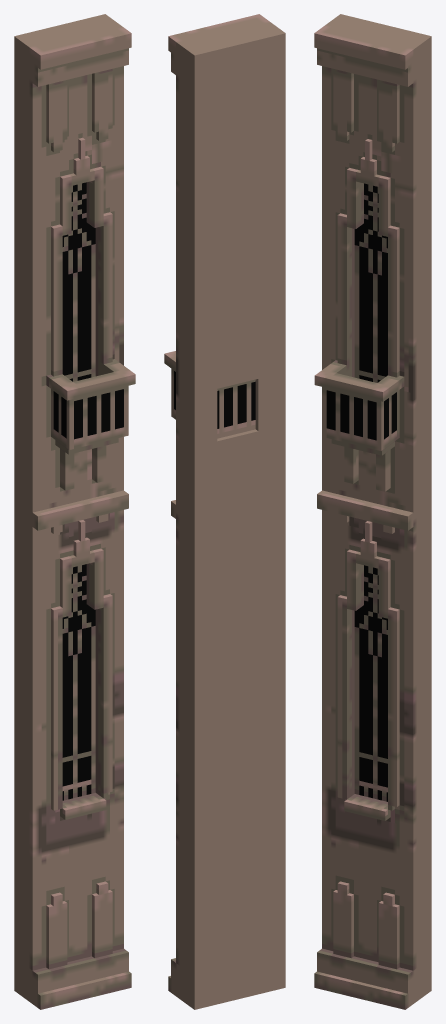
Rendered from Wall_Small_Windows.fbx.
3 renders of one model, left to right at view 1: azimuth 30°, elevation 25°; view 2: azimuth 210°, elevation 25°; view 3: azimuth 330°, elevation 25°, orthographic.
Visible parts, largest first — view 1: Wall_Small_Windows; view 2: Wall_Small_Windows; view 3: Wall_Small_Windows.
Part boxes in pixels (<box>): Wall_Small_Windows: <box>14,14,135,1009</box>; Wall_Small_Windows: <box>164,14,285,1009</box>; Wall_Small_Windows: <box>314,14,431,1009</box>.
Bounding box in the file's own units: 100 × 1000 × 75.
